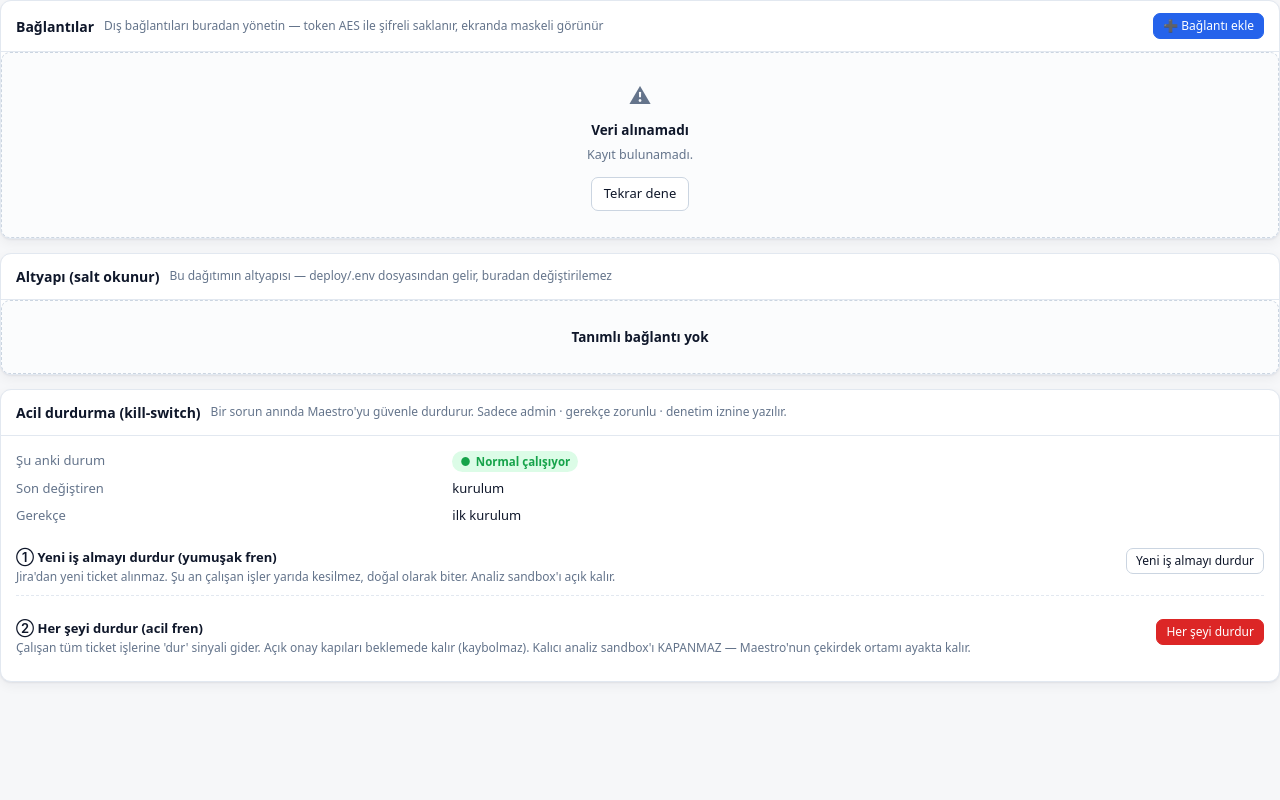
Test: kill switch › warns that stopping everything cannot be undone before it is confirmed
What coordinates should you click on to do the following:
click the button "Her şeyi durdur"
I would click on:
 (1210, 632)
Its box is x1=1156 y1=619 x2=1264 y2=645.
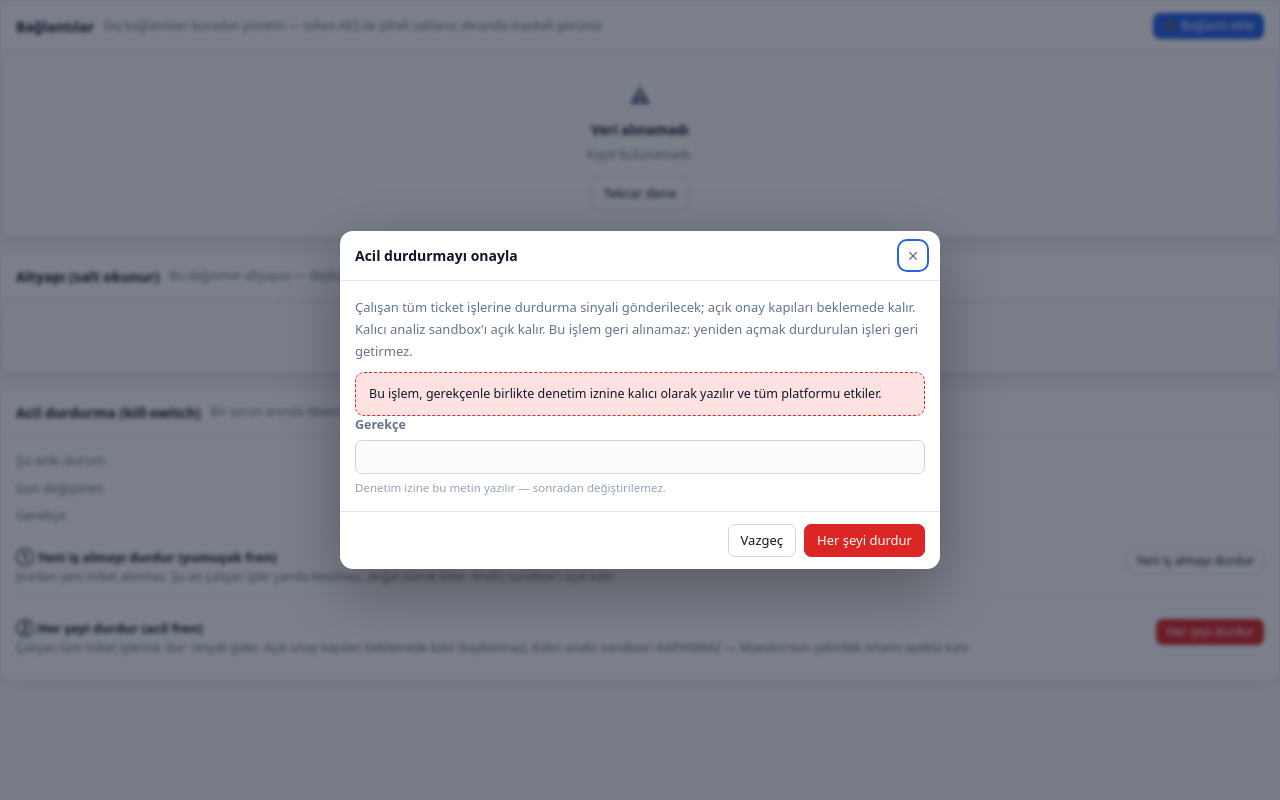
Check: the text "geri alınamaz" is shown, box x1=355 y1=298 x2=918 y2=360
